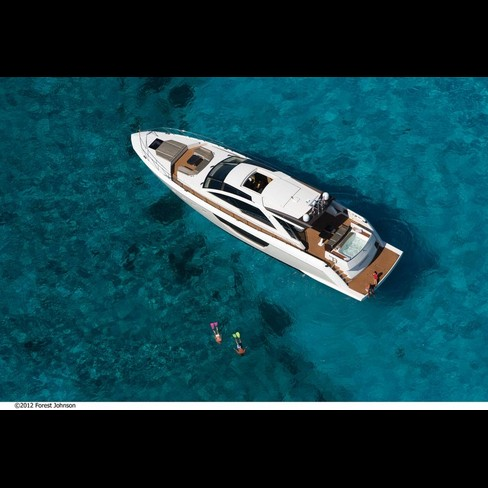boat: (124, 119, 414, 311)
